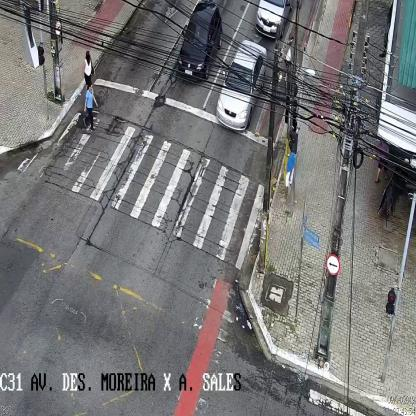car: (216, 39, 267, 130), (180, 0, 223, 81)
person: (280, 130, 297, 204), (82, 83, 98, 132), (83, 50, 95, 98)
